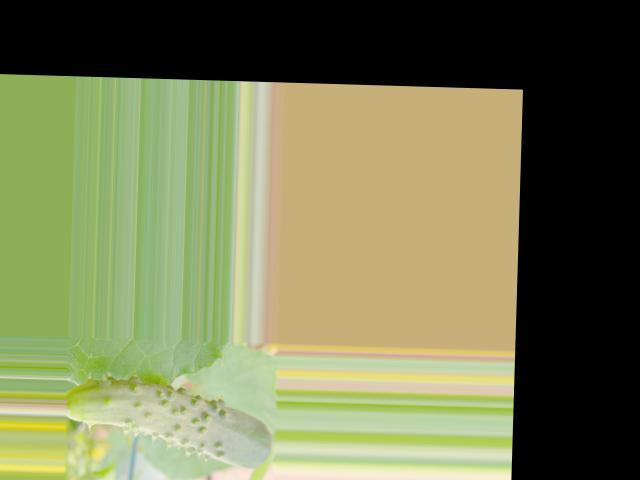cucumber: (65, 374, 275, 468)
